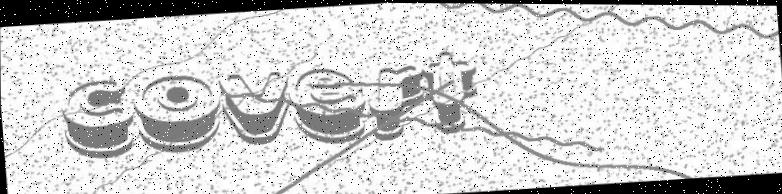c: (52, 70, 140, 165)
e: (287, 62, 369, 148)
o: (129, 70, 226, 160)
r: (369, 55, 433, 145)
t: (425, 45, 478, 139)
v: (212, 63, 293, 150)
